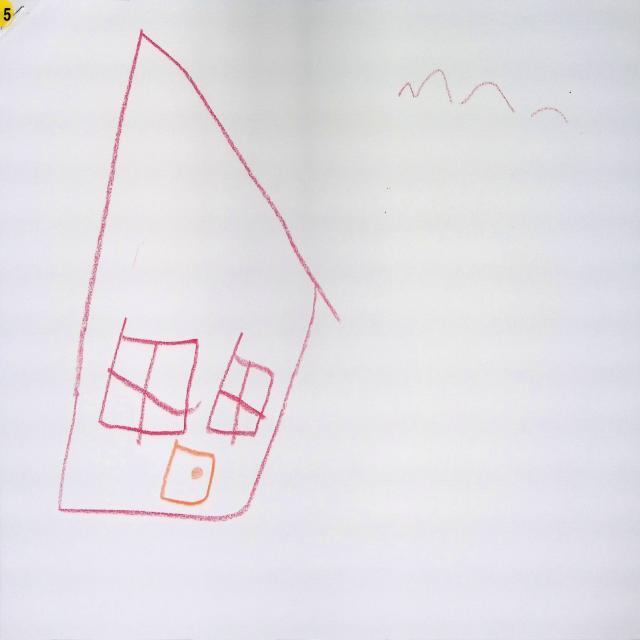door: (160, 441, 215, 507)
house: (58, 30, 335, 522)
wall: (62, 35, 312, 515)
window: (98, 319, 198, 444), (207, 334, 274, 445)
